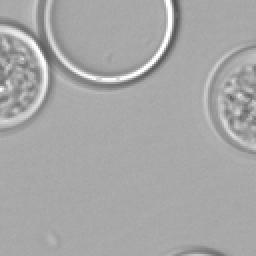picoshell: (34, 0, 178, 88), (202, 43, 256, 154), (0, 20, 50, 130), (161, 244, 226, 256)
